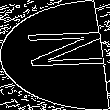N_E: (5, 33, 105, 77)
